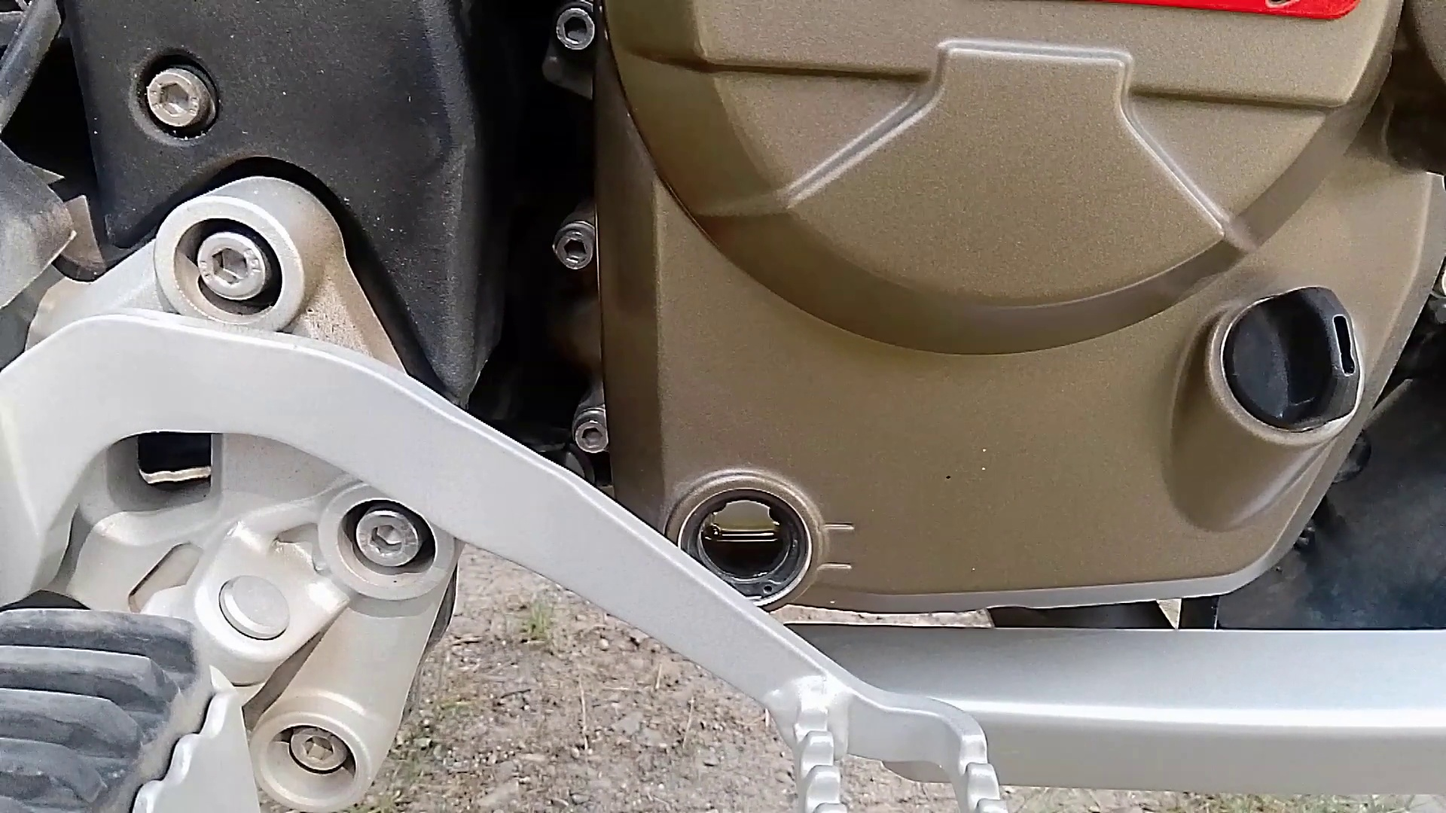engine: (538, 0, 1446, 668)
oil_cap: (1160, 258, 1390, 514)
oil_marker: (640, 450, 891, 638)
